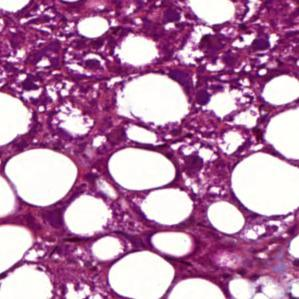steatosis: (108, 251, 176, 298), (109, 148, 176, 190), (167, 275, 227, 299), (147, 230, 196, 256), (208, 202, 245, 235)
